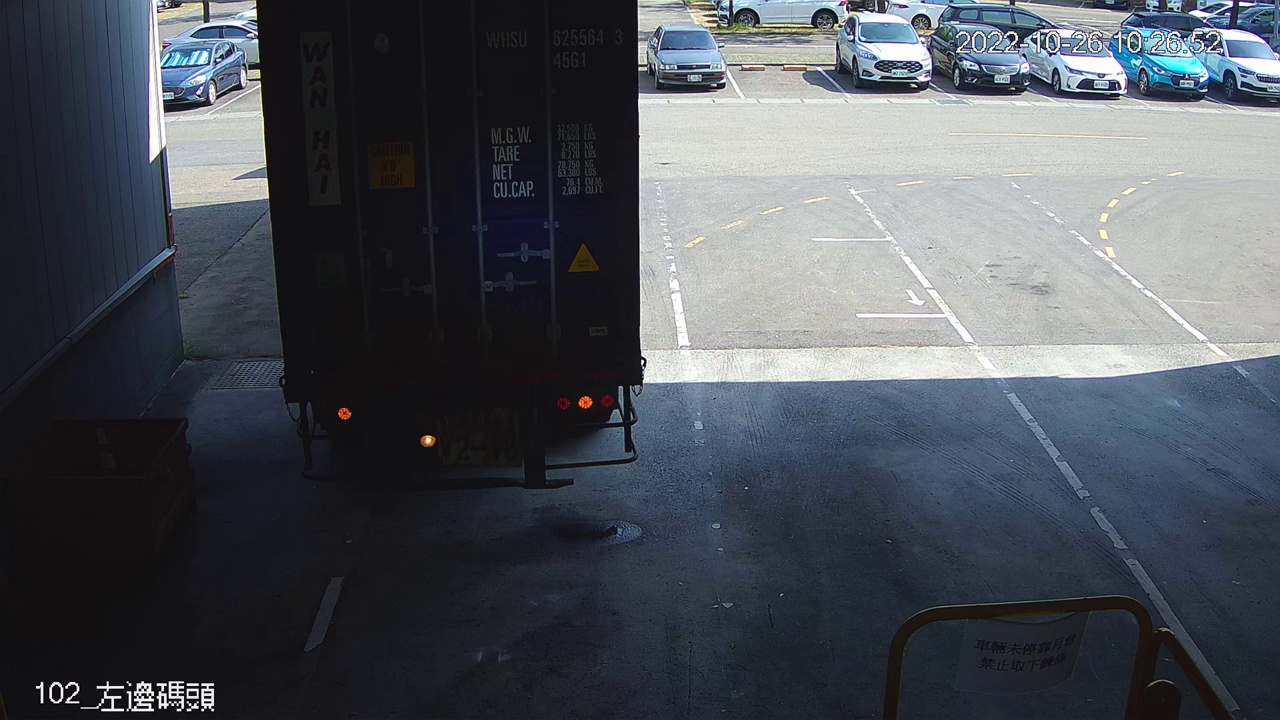container: (479, 18, 627, 76)
